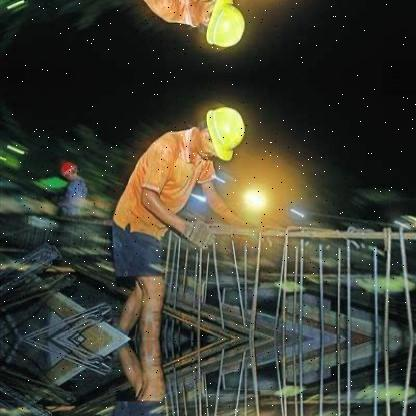Helmet: (194, 102, 248, 168), (192, 0, 248, 58), (62, 160, 82, 182)
